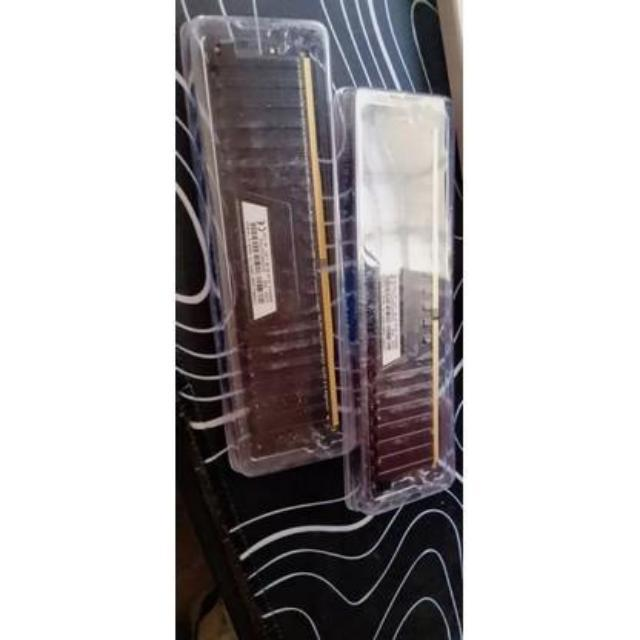RAM: (212, 41, 346, 456), (352, 102, 443, 488)
